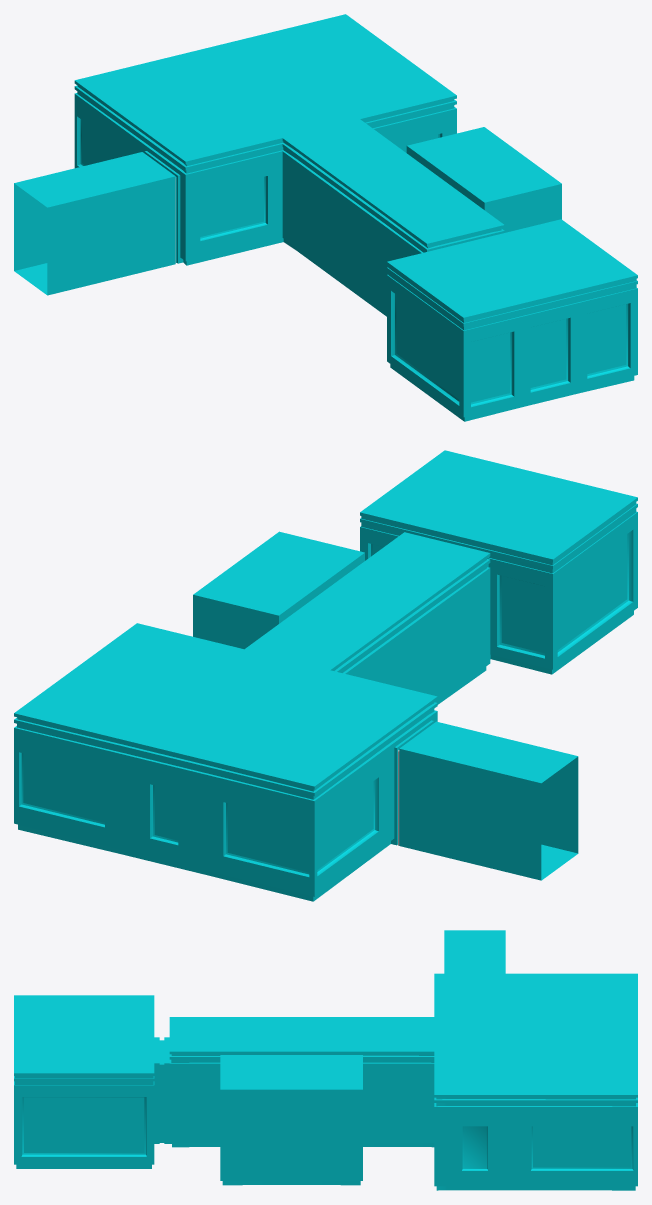
The model's file is FBX_PoliceInside.fbx.
3 views of the same model, one above another, from view 1: azimuth 30°, elevation 25°; view 2: azimuth 150°, elevation 25°; view 3: azimuth 270°, elevation 25° (orthographic). The views are drawn at different scales.
Visible parts, largest first — view 1: PoliceStationInside; view 2: PoliceStationInside; view 3: PoliceStationInside.
Boxes of the visible parts, bbox=[...] form: PoliceStationInside: bbox=[14, 14, 637, 421]; PoliceStationInside: bbox=[14, 450, 637, 901]; PoliceStationInside: bbox=[14, 930, 637, 1190].
Size of the model in its own units: 10.42 by 2.6 by 15.22.
